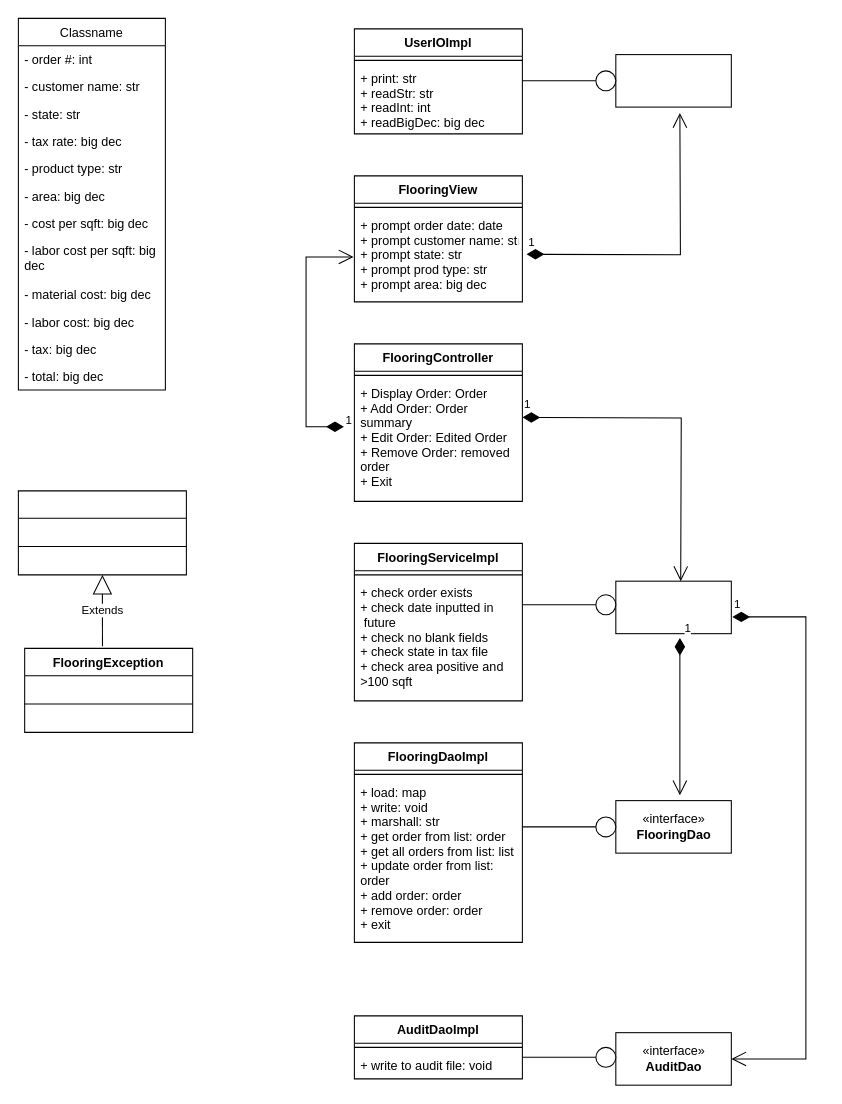
This 842x1104 diagram has some shape labels left out. Here are the shapes that lost their labels. From the top down, the centre of each, then its label:
At point 673,80: "«interface» UserIO".
At point 101,532: "Exception".
At point 673,607: "«interface» FlooringService".
